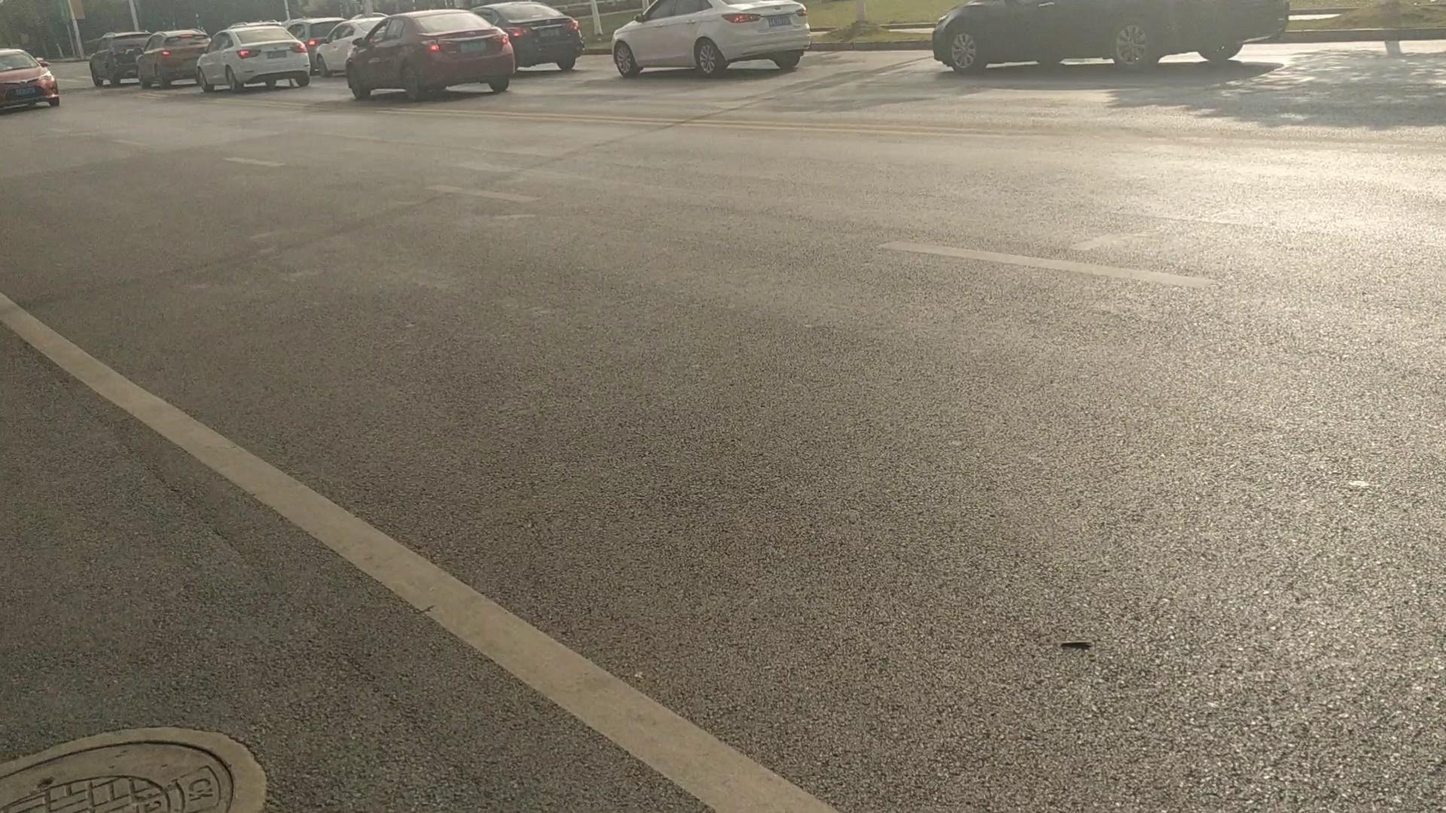car: (928, 1, 1289, 74), (345, 8, 514, 103), (611, 1, 811, 76), (464, 1, 584, 72), (194, 22, 313, 93), (134, 28, 212, 91), (311, 17, 388, 77), (87, 29, 157, 87), (284, 17, 355, 74), (0, 48, 61, 109)
